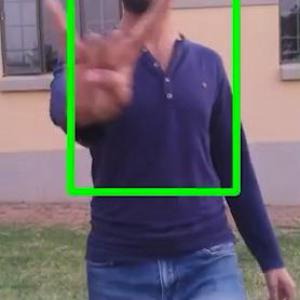takeoff-hand: (36, 0, 174, 139)
